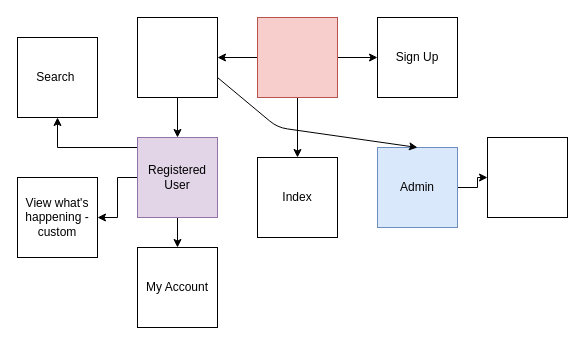
Some shapes in this 585 by 345 pixel diagram are drawn without their labels. The centre of each missing label's shape, as x and y in pixels:
"Log In" goes at (177,57).
"Public" goes at (297,57).
"View All Users" goes at (527,177).
